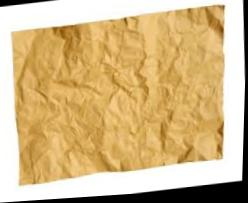paper: (9, 1, 243, 199)
